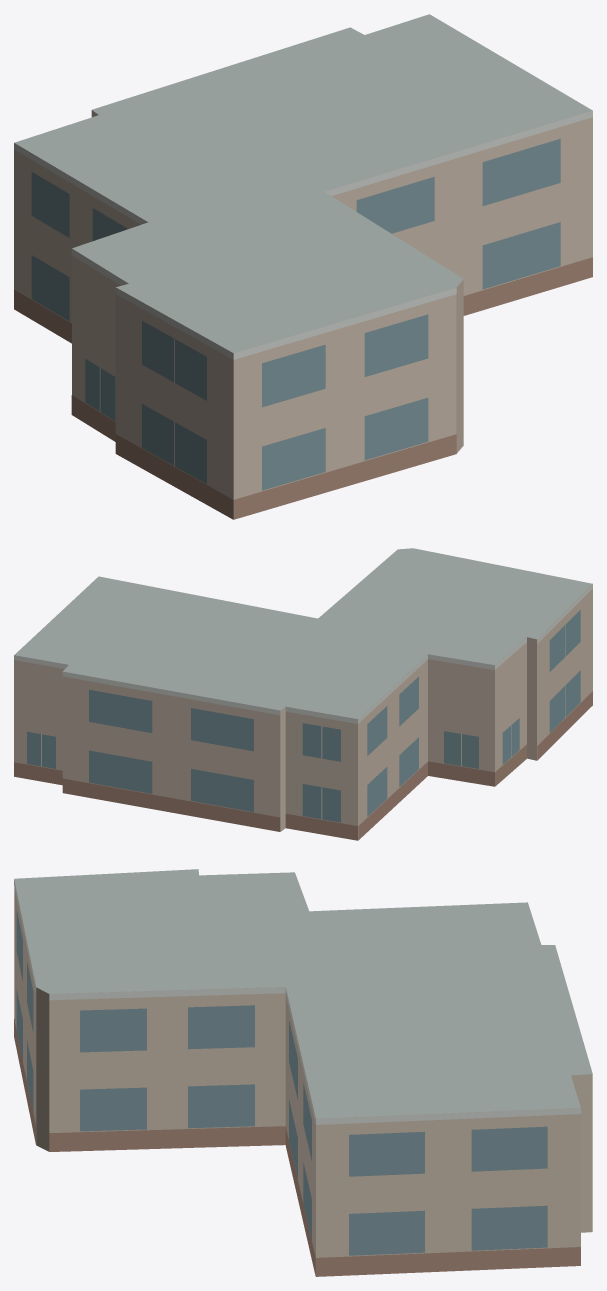
Rendered from survey-upis-32750639.glb.
3 views of the same model, one above another, from view 1: azimuth 30°, elevation 25°; view 2: azimuth 150°, elevation 25°; view 3: azimuth 270°, elevation 25° (orthographic). The views are drawn at different scales.
Parts seen in each view (by area): view 1: survey-upis-32750639.tmp; view 2: survey-upis-32750639.tmp; view 3: survey-upis-32750639.tmp.
Part boxes in pixels (<box>): survey-upis-32750639.tmp: <box>14,14,592,519</box>; survey-upis-32750639.tmp: <box>14,548,592,840</box>; survey-upis-32750639.tmp: <box>14,869,592,1276</box>.
Bounding box in the file's own units: 20.67 × 6.1 × 20.25.
